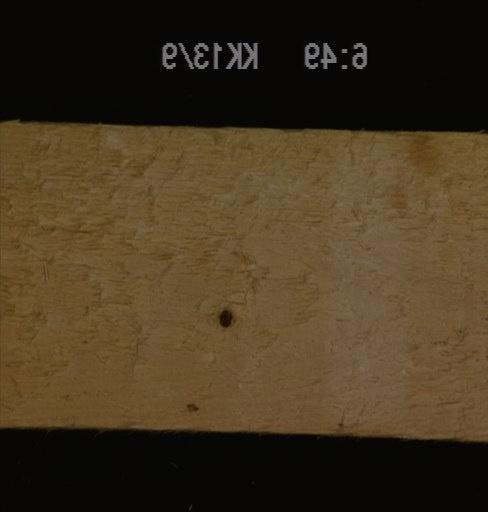dry_knot: (216, 305, 236, 329)
small_knot: (181, 397, 201, 414)
